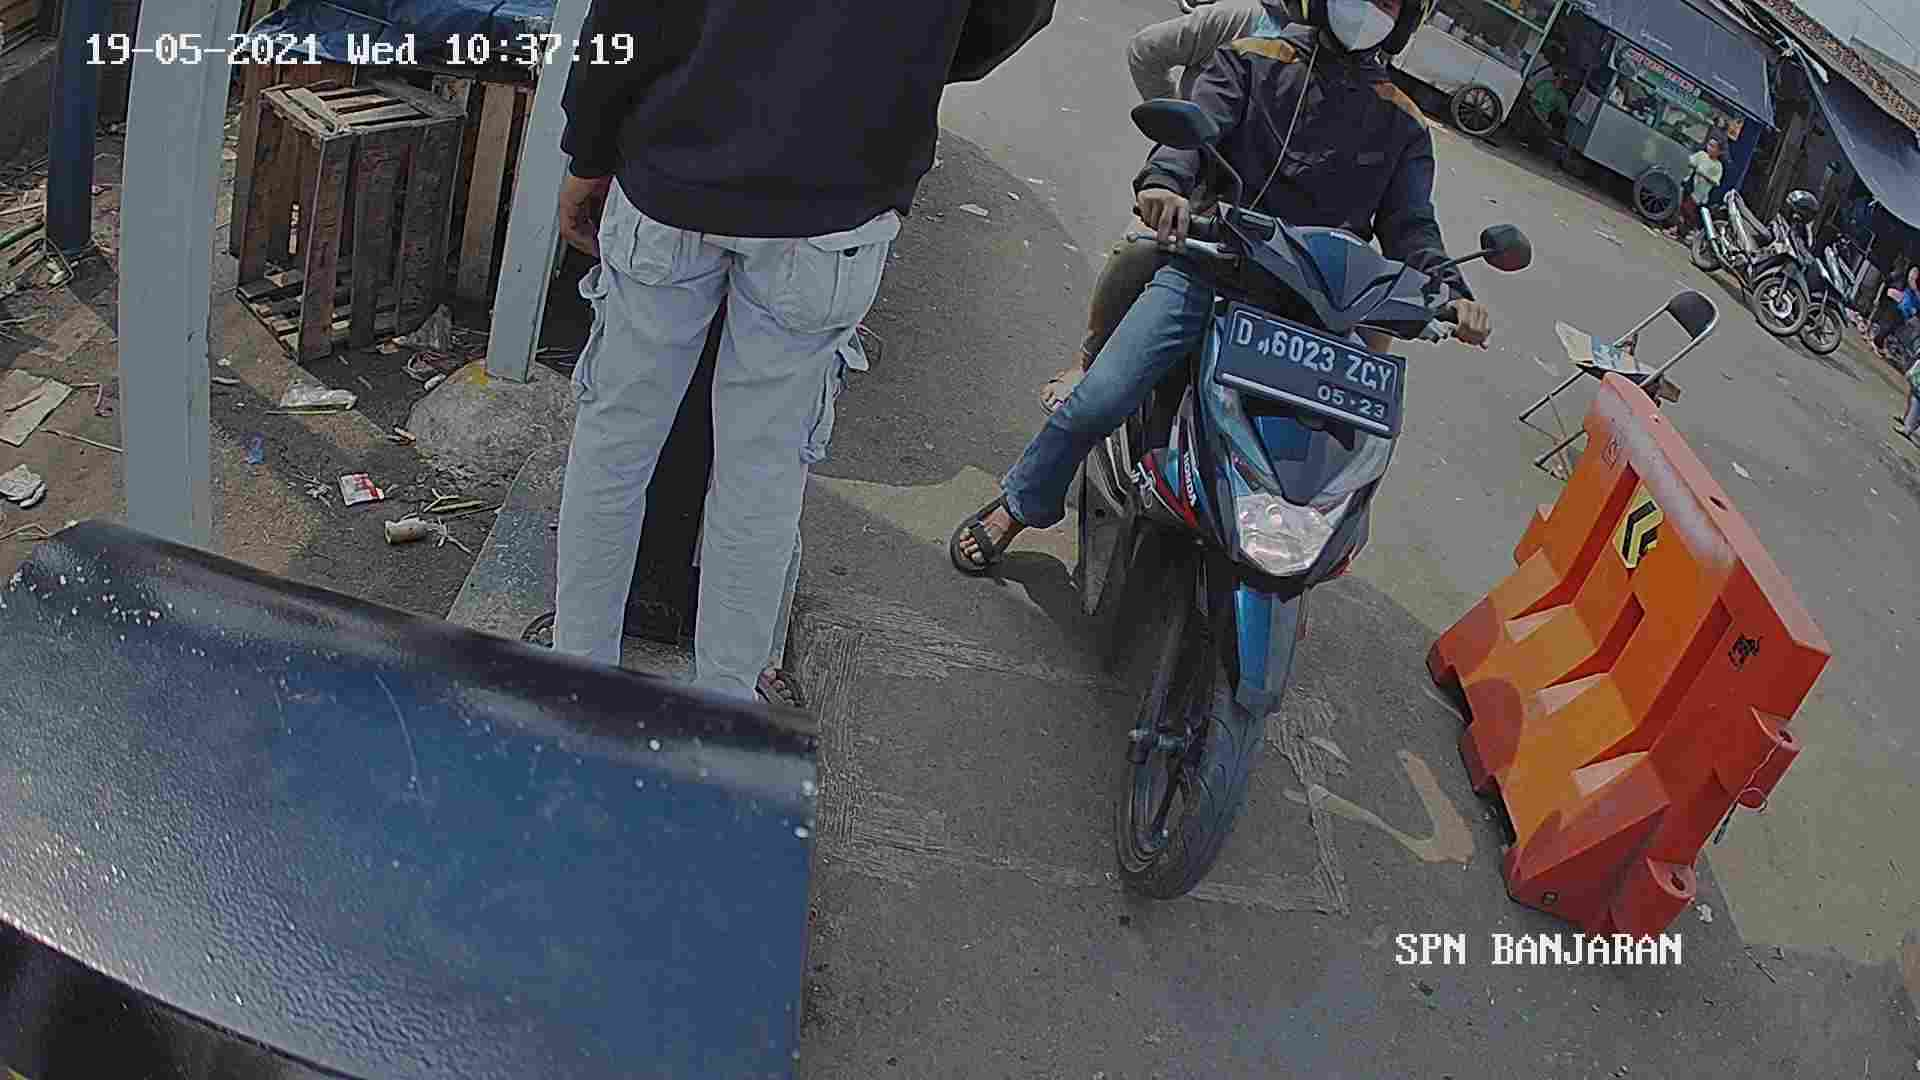motor: (975, 203, 1460, 906)
